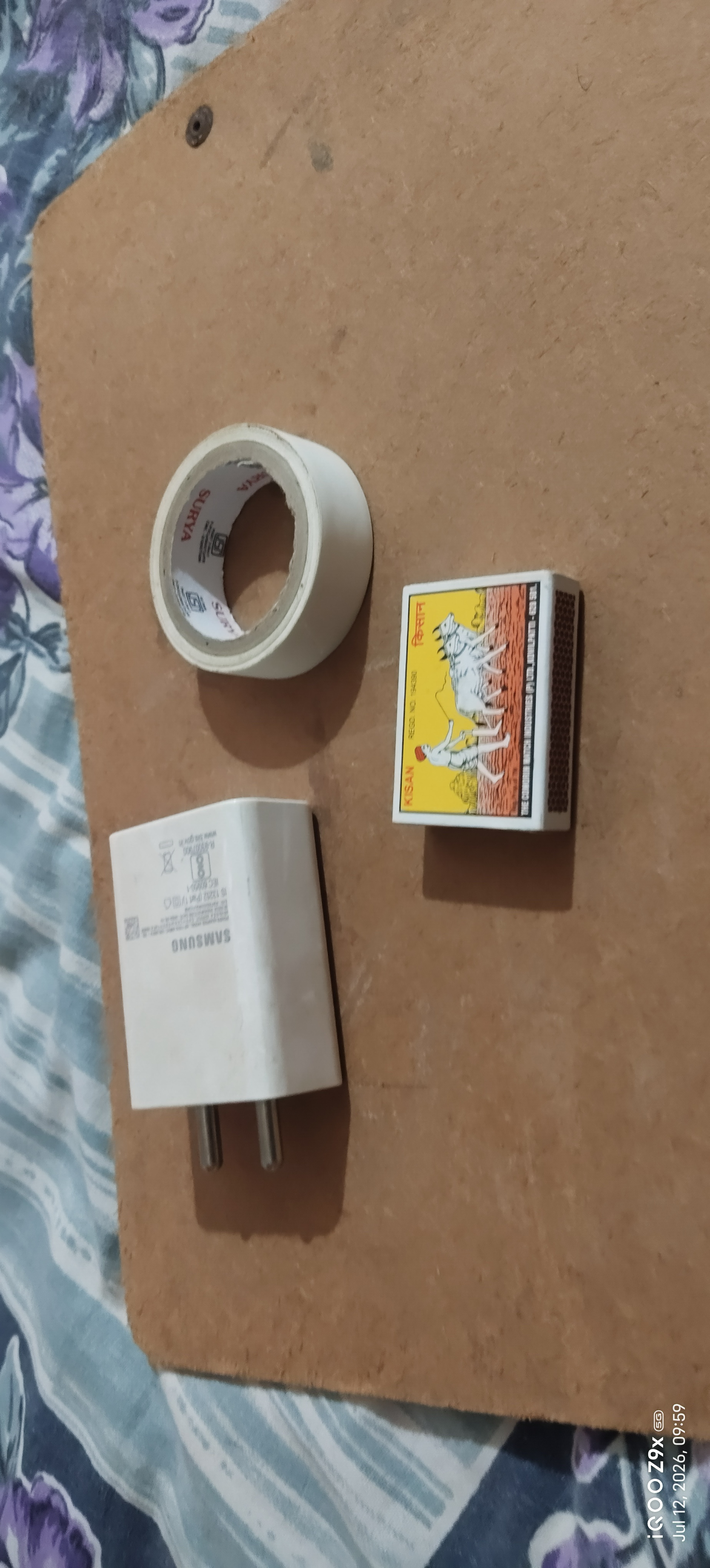charger: (64, 780, 374, 1203)
matchbox: (385, 562, 600, 867)
tape_roll: (133, 412, 385, 710)
